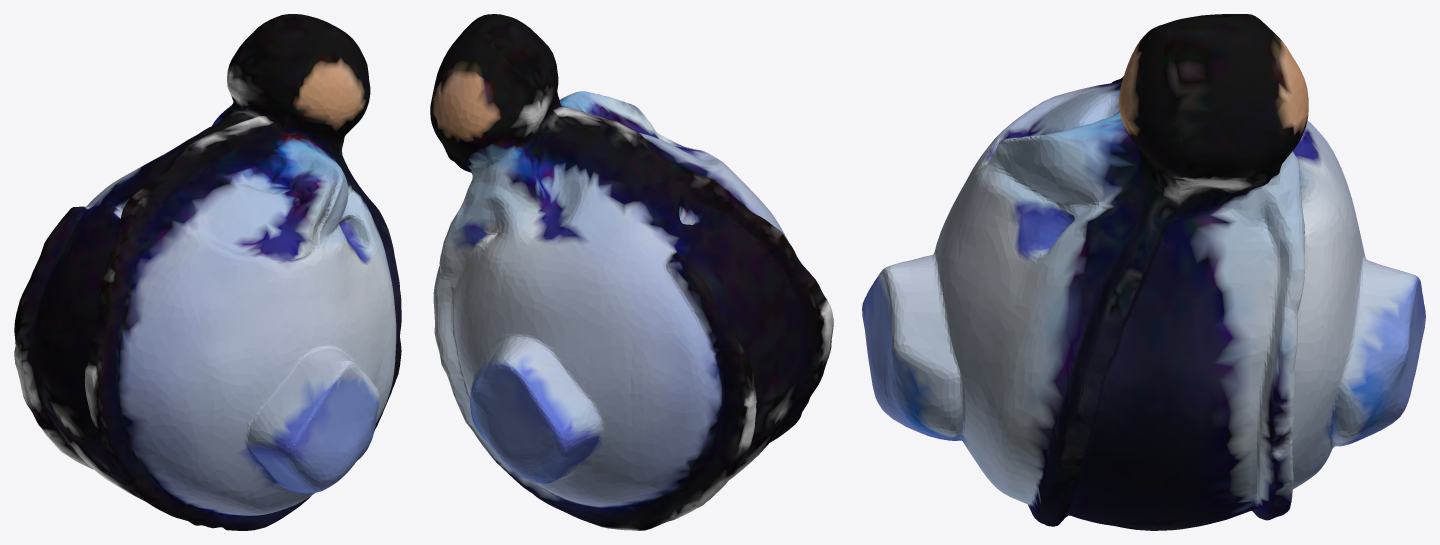
File: potioncol.glb
3 renders of one model, left to right at view 1: azimuth 30°, elevation 25°; view 2: azimuth 150°, elevation 25°; view 3: azimuth 270°, elevation 25°, orthographic. The views are drawn at different scales.
Parts seen in each view (by area): view 1: geometry_0; view 2: geometry_0; view 3: geometry_0.
Boxes of the visible parts, box(x1,y1,x2,y2) form: geometry_0: box(14, 14, 401, 530); geometry_0: box(430, 14, 833, 530); geometry_0: box(862, 14, 1425, 530).
Bounding box in the file's own units: 0.375 × 0.4851 × 0.434.
